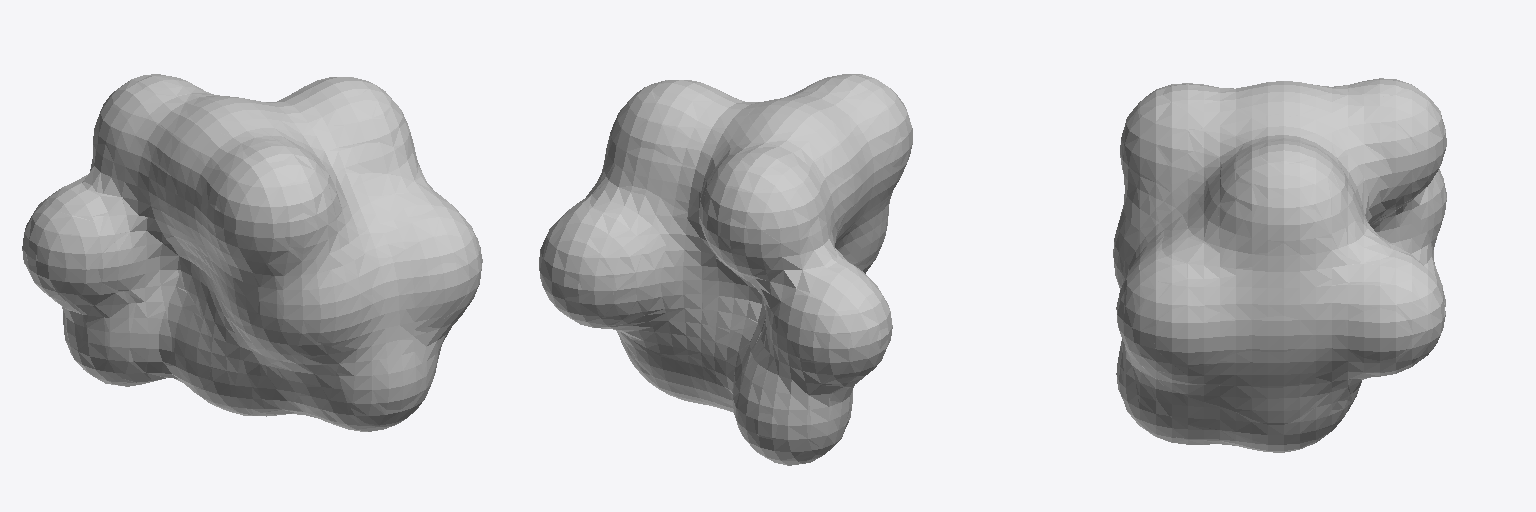
The model's file is rainbow_flubber.obj.
3 views of the same model, side by side, from view 1: azimuth 30°, elevation 25°; view 2: azimuth 150°, elevation 25°; view 3: azimuth 270°, elevation 25° (orthographic).
Parts seen in each view (by area): view 1: RAINBOW_BLOB; view 2: RAINBOW_BLOB; view 3: RAINBOW_BLOB.
Boxes of the visible parts, x1=… form: RAINBOW_BLOB: x1=22, y1=74, x2=482, y2=431; RAINBOW_BLOB: x1=539, y1=74, x2=912, y2=465; RAINBOW_BLOB: x1=1113, y1=78, x2=1446, y2=452.
Bounding box in the file's own units: 74.23 × 64.62 × 62.58.